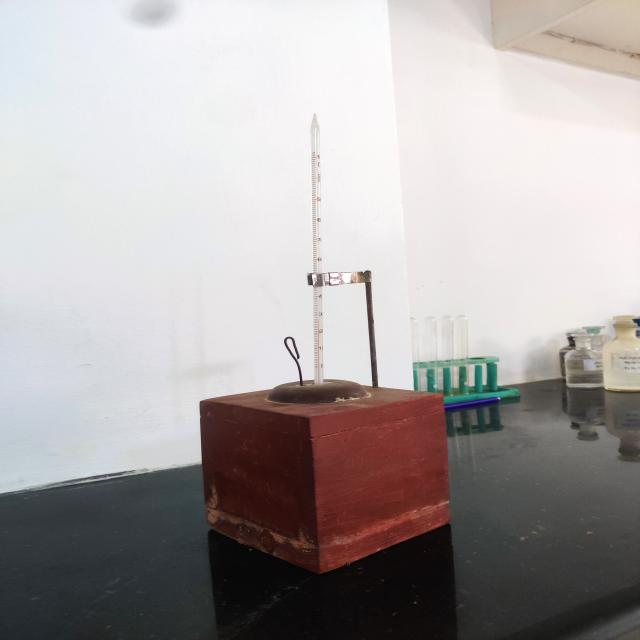Calorimeter: (174, 104, 483, 587)
